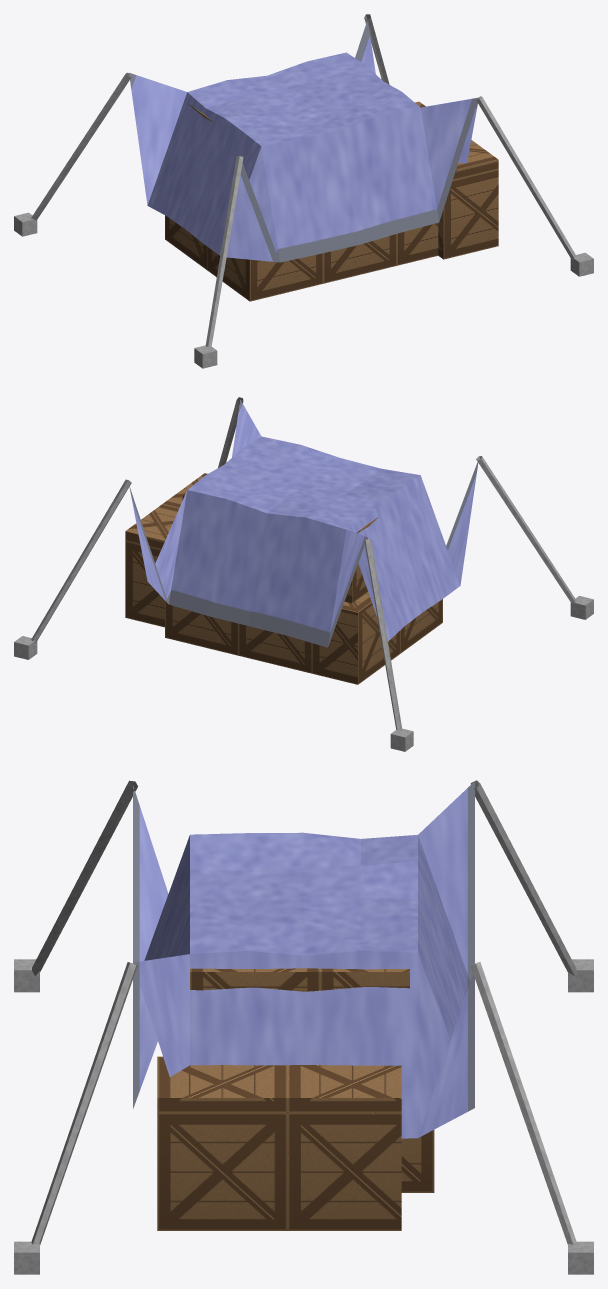
File: tarp_tent.glb
3 renders of one model, top to bottom at view 1: azimuth 30°, elevation 25°; view 2: azimuth 150°, elevation 25°; view 3: azimuth 270°, elevation 25°, orthographic. The views are drawn at different scales.
Visible parts, largest first — view 1: tarp_tent; view 2: tarp_tent; view 3: tarp_tent.
Boxes of the visible parts, bbox=[...] form: tarp_tent: bbox=[14, 14, 593, 368]; tarp_tent: bbox=[14, 397, 593, 751]; tarp_tent: bbox=[14, 780, 593, 1274].
Size of the model in its own units: 4.26 by 1.76 by 3.56.
Materials: 3 (3 with a texture image).
